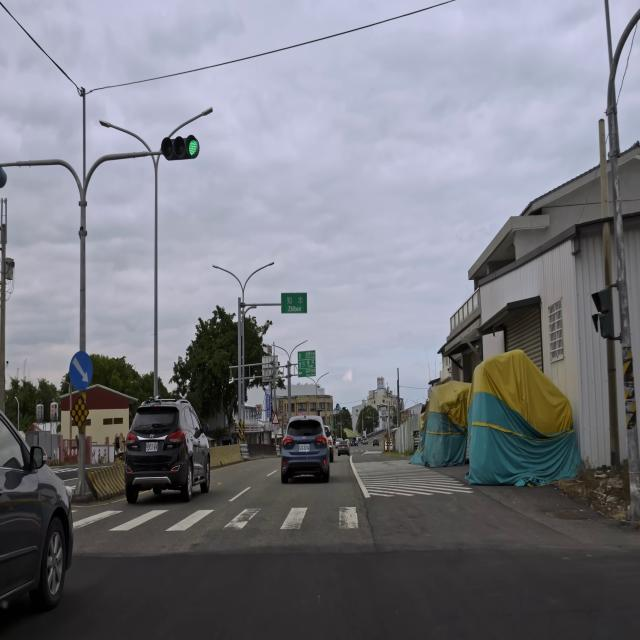green light: (160, 138, 200, 160)
